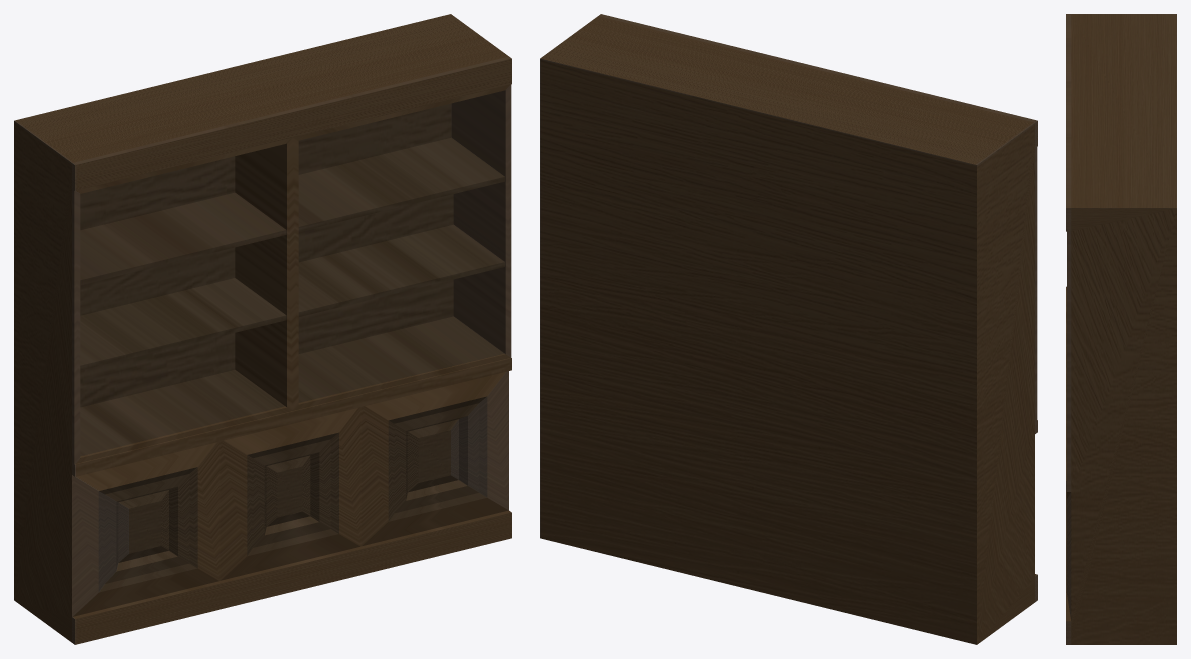
File: Bookcase.FBX
3 renders of one model, left to right at view 1: azimuth 30°, elevation 25°; view 2: azimuth 150°, elevation 25°; view 3: azimuth 270°, elevation 25°, orthographic. The views are drawn at different scales.
Visible parts, largest first — view 1: Object004, Object005, Object006; view 2: Object004; view 3: Object004.
Boxes of the visible parts, bbox=[...] form: Object004: bbox=[14, 14, 511, 644]; Object005: bbox=[80, 103, 504, 456]; Object006: bbox=[98, 396, 487, 592]; Object004: bbox=[540, 14, 1037, 644]; Object004: bbox=[1066, 14, 1176, 644].
Bounding box in the file's own units: 222 × 233 × 53.55.
Materials: 3 (3 with a texture image).
